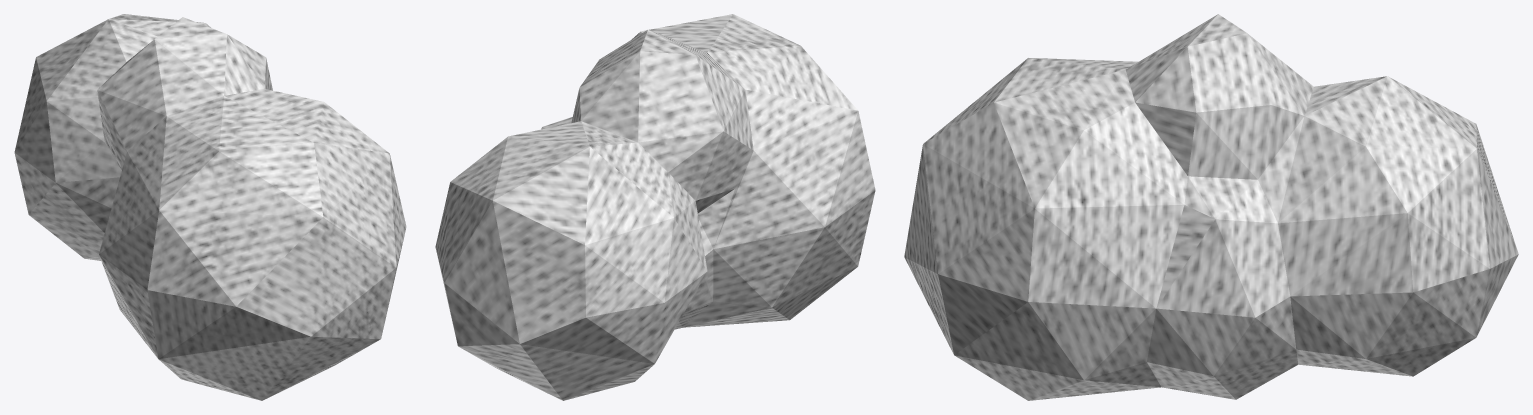
Rendered from cloud.obj.
The picture shows the model from 3 angles, left to right: view 1: azimuth 30°, elevation 25°; view 2: azimuth 150°, elevation 25°; view 3: azimuth 270°, elevation 25°; orthographic projection. The views are drawn at different scales.
Visible parts, largest first — view 1: Icosphere; view 2: Icosphere; view 3: Icosphere.
Part boxes in pixels (x1,y1,x2,y2): Icosphere: (14,14,406,400); Icosphere: (435,14,875,400); Icosphere: (904,14,1518,400).
Bounding box in the file's own units: 1.9 × 2.2 × 3.4.
